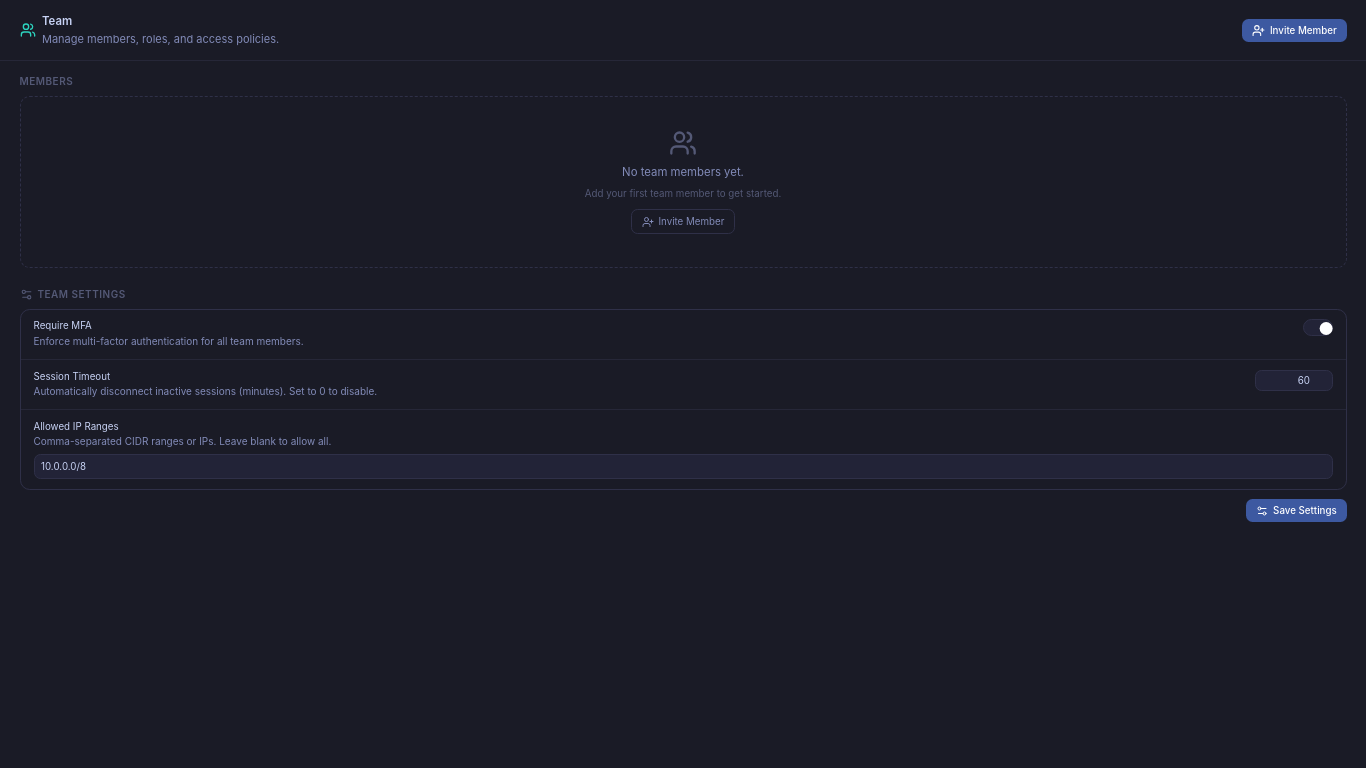
Test: TeamPanel › toggles Require MFA and edits session timeout and allowed IPs, then saves
Expected: the text "No team members yet." is shown, [622, 164, 744, 180]
Click the 3rd button.
click(1318, 328)  # box [1303, 319, 1333, 336]
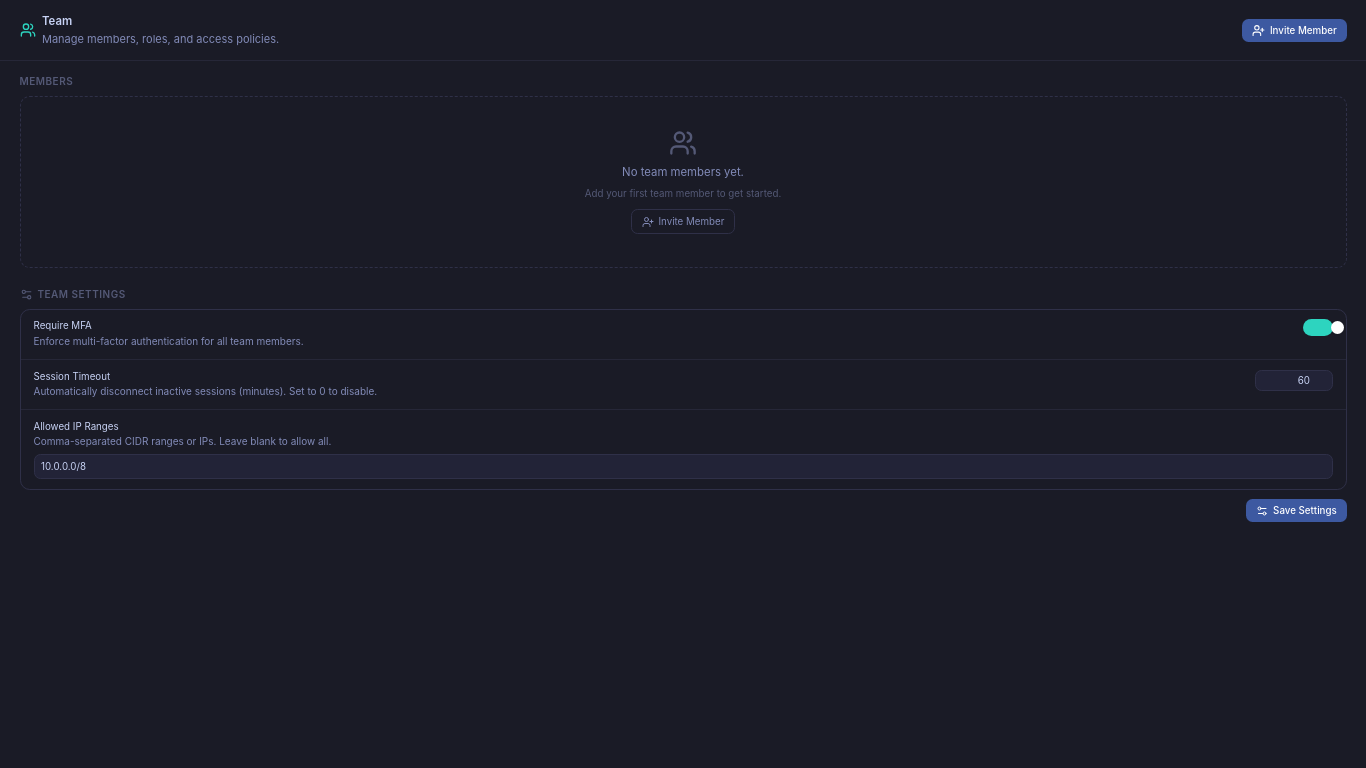
Replace the text in the number field showing "60" with "120" at (1294, 380), box [1254, 370, 1332, 391]
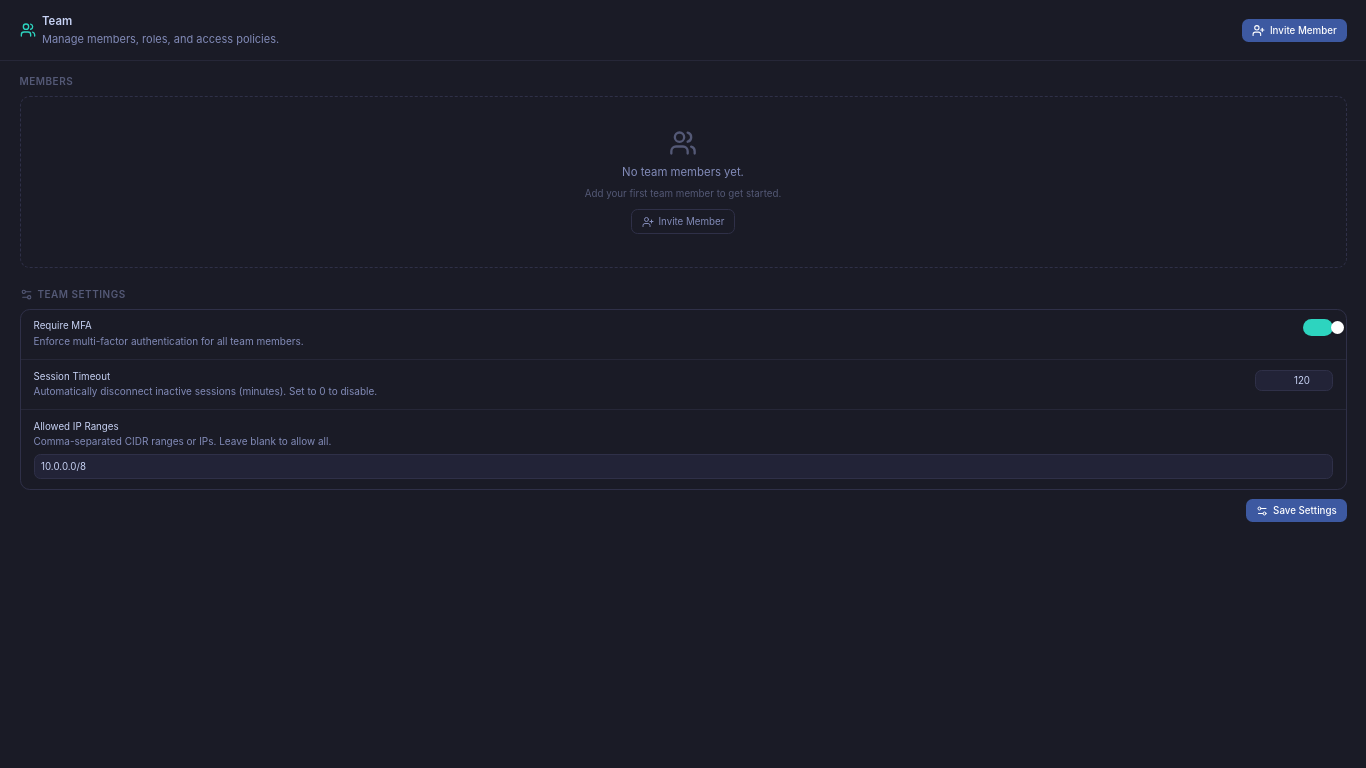
Replace the text in the field with placeholder "192.168.1.0/24, 10.0.0.1" with "10.0.0.0/8, 172.16.0.0/12" at (683, 466), box [34, 454, 1332, 479]
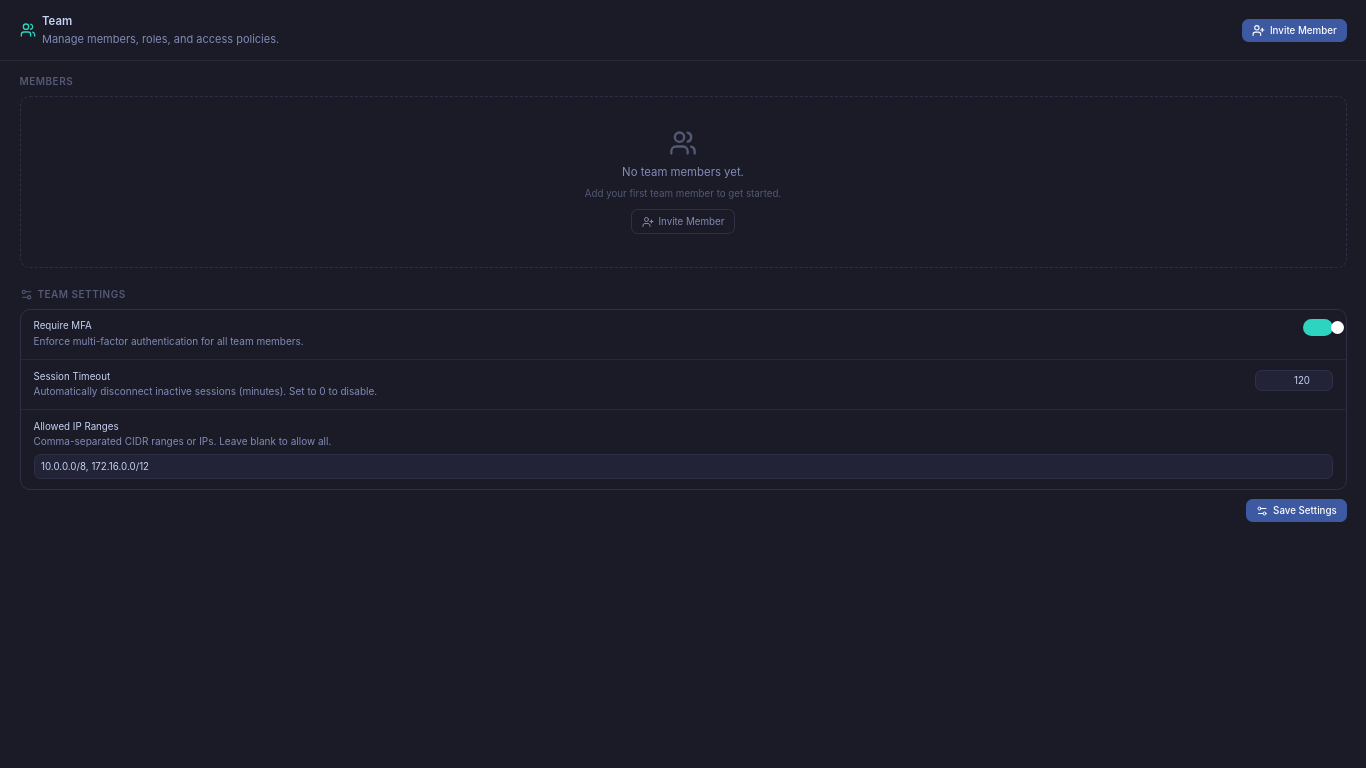
Click the button "Save Settings".
click(1296, 511)  # box [1246, 499, 1346, 522]
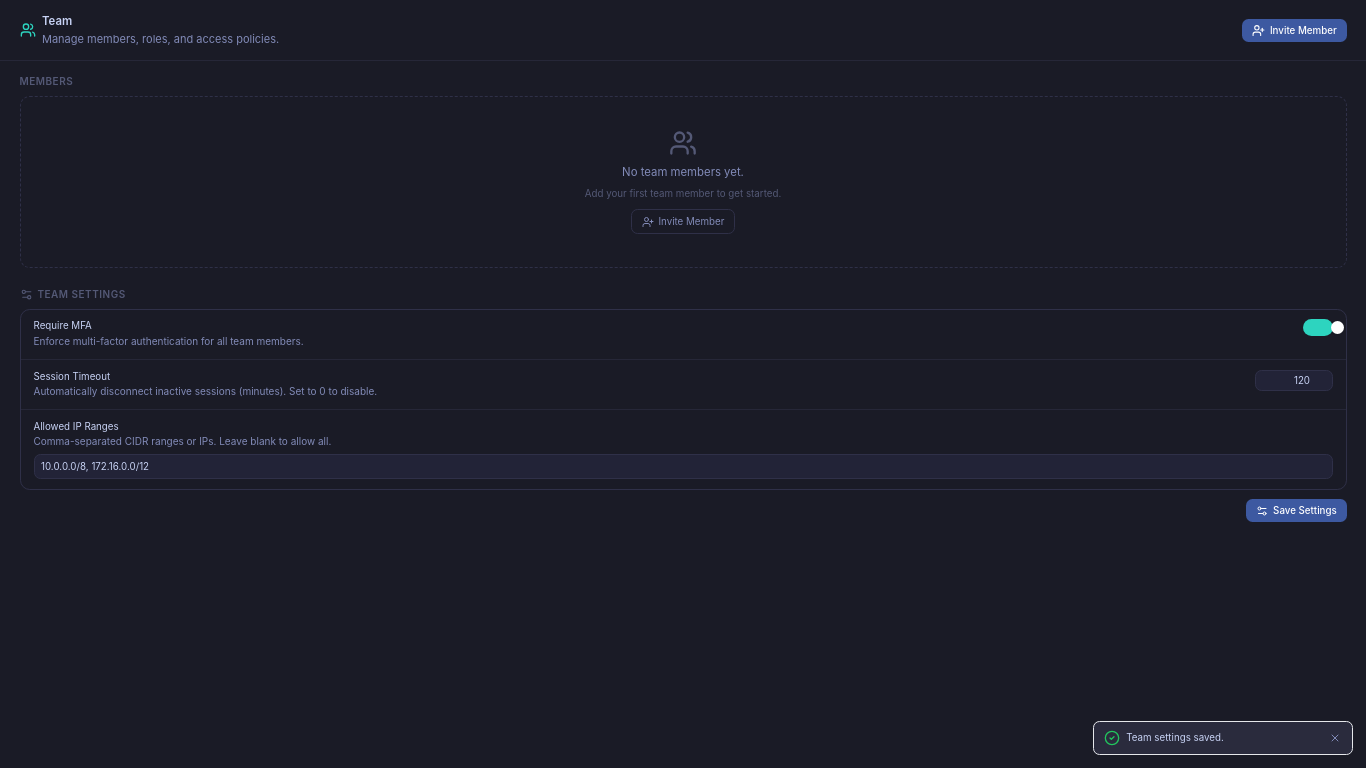
Now the text "Team settings saved." is shown, box [1126, 732, 1224, 743]
